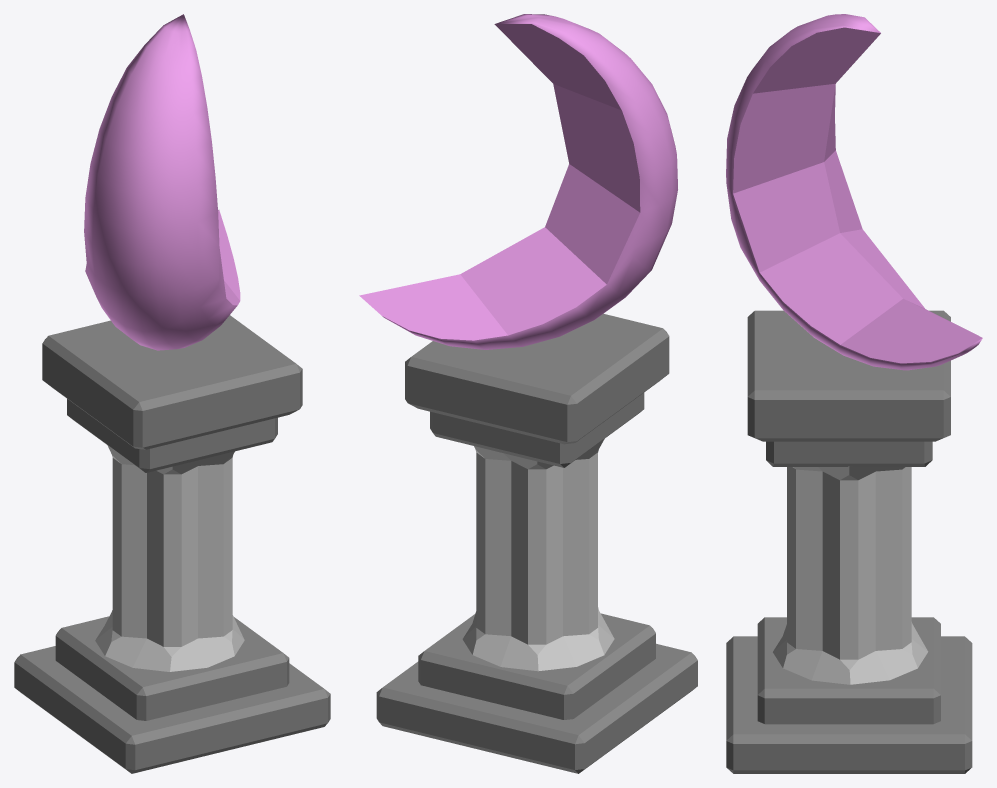
The model's file is lunar.fbx.
The picture shows the model from 3 angles, left to right: view 1: azimuth 30°, elevation 25°; view 2: azimuth 150°, elevation 25°; view 3: azimuth 270°, elevation 25°; orthographic projection. The views are drawn at different scales.
Visible parts, largest first — view 1: Base, Cube; view 2: Base, Cube; view 3: Base, Cube.
Boxes of the visible parts, <box> form: Base: <box>14,315,330,773</box>; Cube: <box>84,14,240,350</box>; Base: <box>376,313,697,773</box>; Cube: <box>359,14,677,349</box>; Base: <box>726,310,972,773</box>; Cube: <box>726,14,982,370</box>.
Size of the model in its own units: 59.05 by 180 by 59.21.
